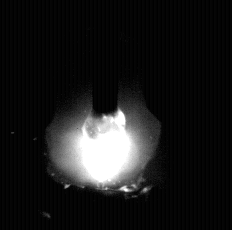arame: (92, 0, 119, 118)
poca: (47, 0, 159, 230)
